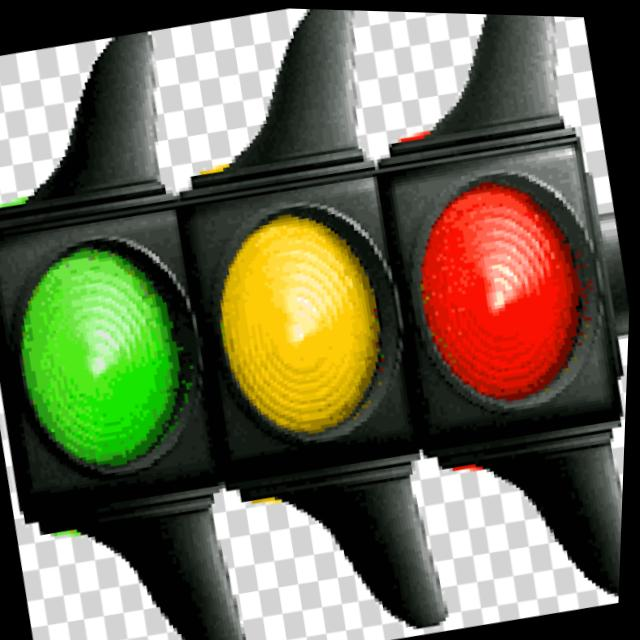green_light: (0, 134, 227, 553)
red_light: (392, 98, 637, 455)
yellow_light: (137, 90, 461, 541)
